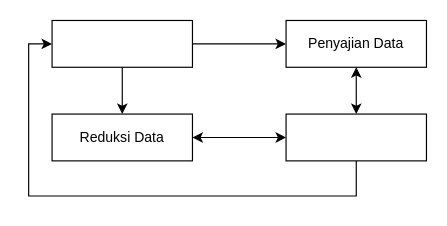
Image size: 447x226. Some labels were removed from this diagram. Here are the shapes that lost their labels. From the top down, the box of each, then its label:
(51, 19, 192, 67): Pengumpulan Data
(285, 113, 426, 161): Penarikan Kesimpulan / Verifikasi
